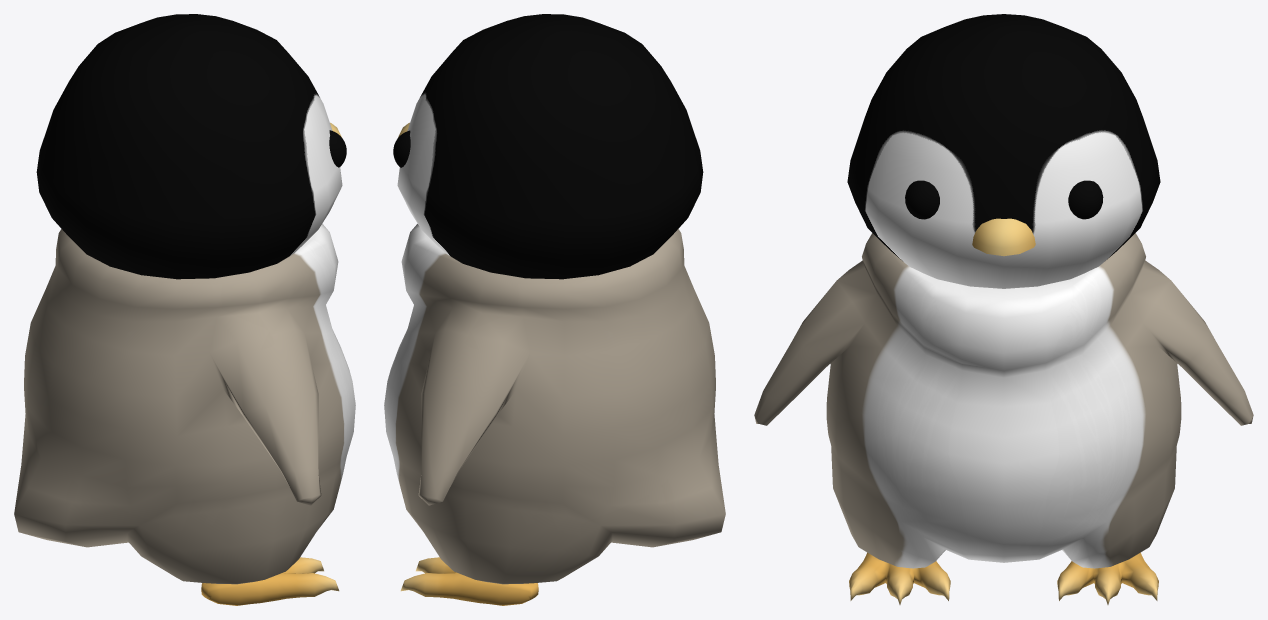
Rendered from penguin.gltf.
3 views of the same model, side by side, from view 1: azimuth 30°, elevation 25°; view 2: azimuth 150°, elevation 25°; view 3: azimuth 270°, elevation 25° (orthographic).
Parts seen in each view (by area): view 1: Penguin; view 2: Penguin; view 3: Penguin.
Part boxes in pixels (x1=…): Penguin: x1=14, y1=14, x2=355, y2=605; Penguin: x1=384, y1=14, x2=725, y2=605; Penguin: x1=754, y1=14, x2=1253, y2=604.
Size of the model in its own units: 8.51 by 13.2 by 11.05.
Materials: 1 (1 with a texture image).
